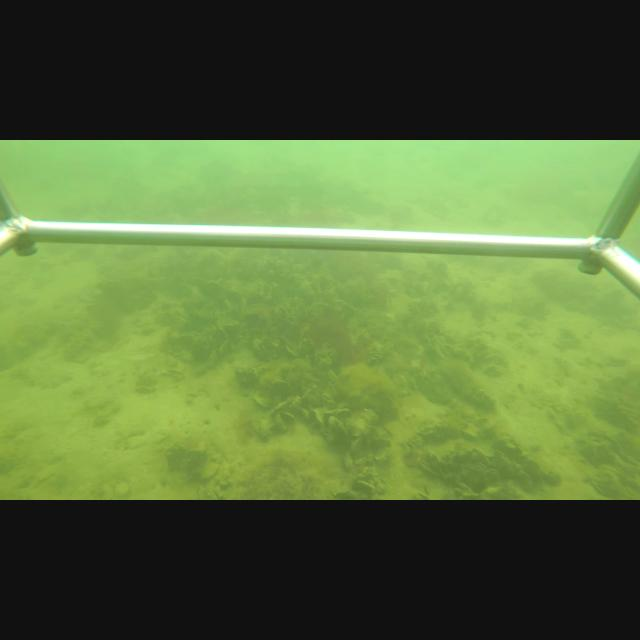Oyster-Closed: (311, 407, 326, 430), (252, 395, 271, 410), (284, 343, 297, 358)
Oyster-Open: (275, 410, 296, 433), (399, 439, 419, 459)
